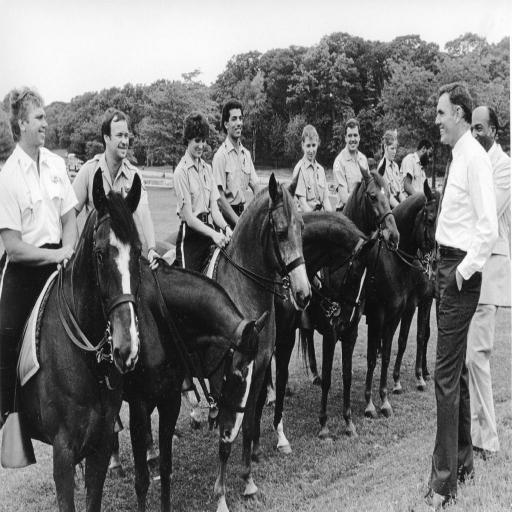horse: (0, 162, 442, 511)
